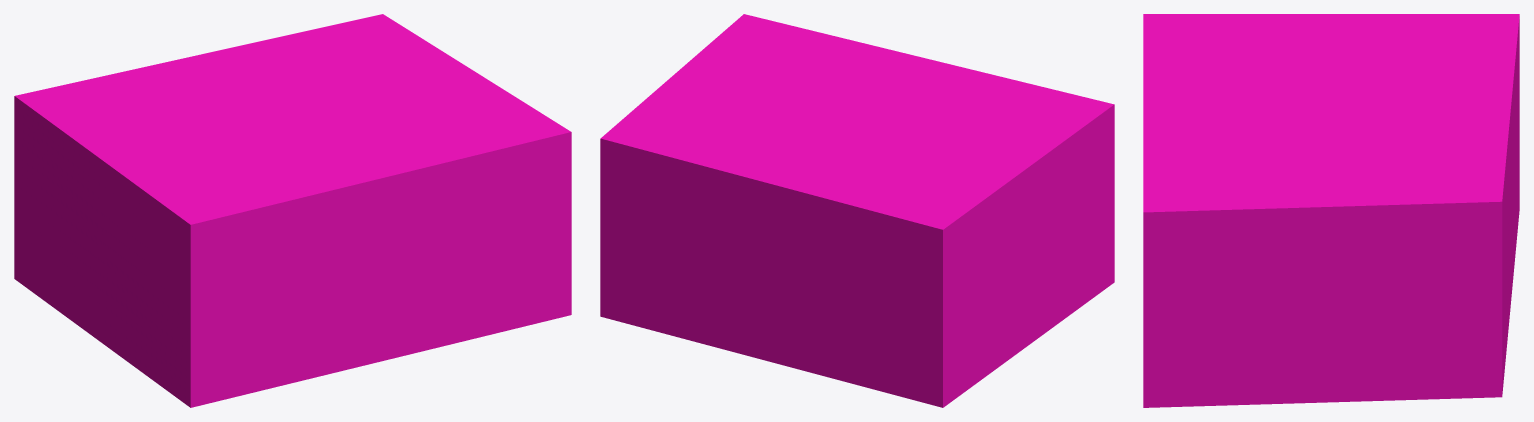
File: study_book_pile_2_meshCollider.fbx
3 views of the same model, side by side, from view 1: azimuth 30°, elevation 25°; view 2: azimuth 150°, elevation 25°; view 3: azimuth 270°, elevation 25° (orthographic). The views are drawn at different scales.
Parts seen in each view (by area): view 1: study_book_pile_2_meshCollider; view 2: study_book_pile_2_meshCollider; view 3: study_book_pile_2_meshCollider.
Boxes of the visible parts, <box> form: study_book_pile_2_meshCollider: <box>14,14,571,407</box>; study_book_pile_2_meshCollider: <box>600,14,1114,407</box>; study_book_pile_2_meshCollider: <box>1143,14,1519,407</box>.
Size of the model in its own units: 29.9 by 13.74 by 23.96.
